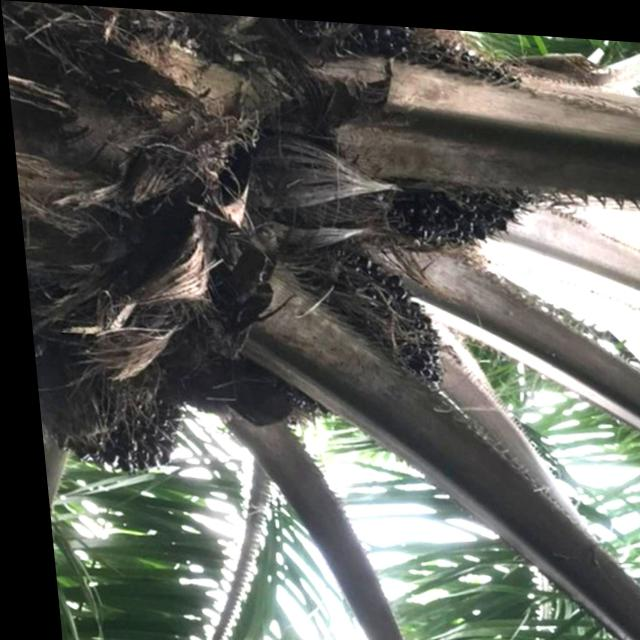almost: (269, 233, 453, 428)
